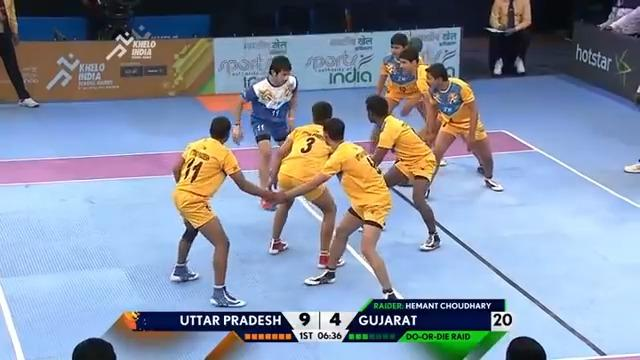Player: (263, 117, 404, 300), (169, 115, 280, 307), (263, 100, 346, 269), (356, 94, 441, 251), (421, 62, 504, 198), (373, 33, 440, 156), (0, 0, 40, 107)
Raider: (231, 54, 298, 210)
referee: (597, 0, 639, 173), (485, 0, 532, 76), (93, 0, 139, 41), (596, 0, 639, 38)
